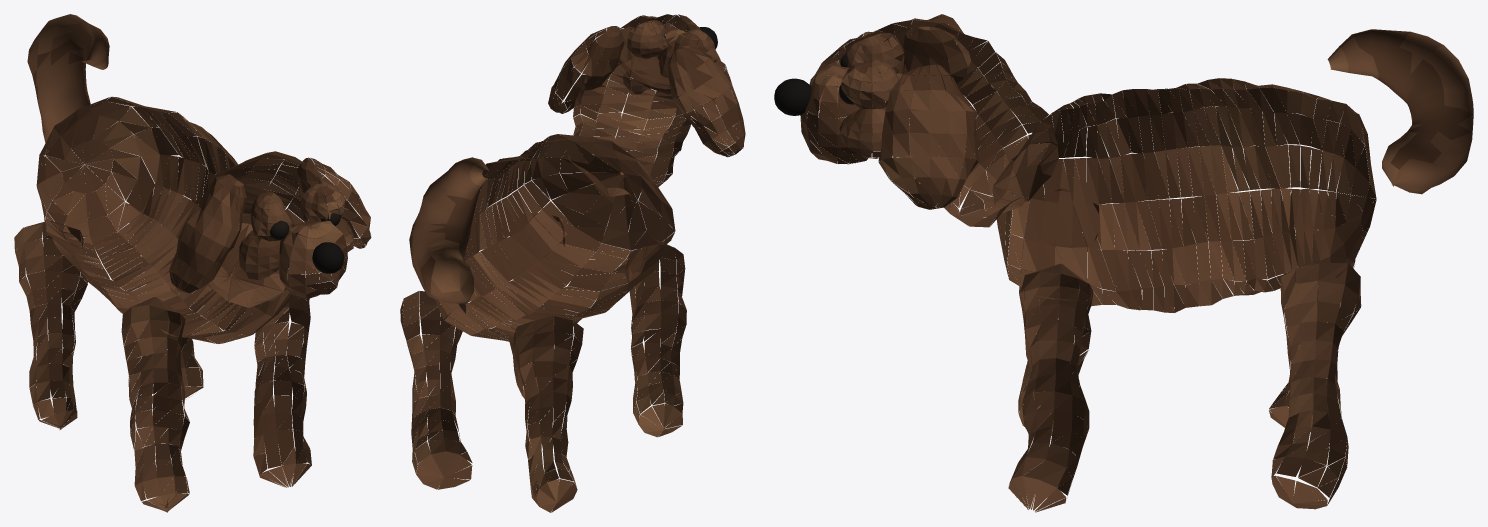
File: charley.glb
The picture shows the model from 3 angles, left to right: view 1: azimuth 30°, elevation 25°; view 2: azimuth 150°, elevation 25°; view 3: azimuth 270°, elevation 25°; orthographic projection. The views are drawn at different scales.
Parts seen in each view (by area): view 1: coat, coatCurlDk, head, headCurlDk, coatCurlLt, tailGeo, headCurlLt, tailGeoLt, nose, tailGeoDk, eyes; view 2: coat, coatCurlDk, head, headCurlDk, coatCurlLt, tailGeo, headCurlLt, tailGeoLt, tailGeoDk; view 3: coat, coatCurlDk, head, headCurlDk, coatCurlLt, tailGeoDk, tailGeo, headCurlLt, tailGeoLt, nose.
Boxes of the visible parts, left/top/right/bottom form: coat: left=15, top=96, right=311, bottom=511; coatCurlDk: left=26, top=105, right=310, bottom=474; head: left=169, top=151, right=370, bottom=307; headCurlDk: left=169, top=153, right=370, bottom=293; coatCurlLt: left=14, top=107, right=239, bottom=512; tailGeo: left=27, top=14, right=109, bottom=147; headCurlLt: left=195, top=190, right=371, bottom=288; tailGeoLt: left=29, top=17, right=108, bottom=69; nose: left=312, top=242, right=344, bottom=273; tailGeoDk: left=32, top=22, right=98, bottom=105; eyes: left=267, top=206, right=340, bottom=239; coat: left=402, top=134, right=686, bottom=512; coatCurlDk: left=400, top=139, right=683, bottom=501; head: left=549, top=14, right=738, bottom=196; headCurlDk: left=548, top=14, right=745, bottom=196; coatCurlLt: left=402, top=134, right=683, bottom=501; tailGeo: left=409, top=157, right=488, bottom=303; headCurlLt: left=568, top=15, right=697, bottom=168; tailGeoLt: left=428, top=163, right=489, bottom=292; tailGeoDk: left=409, top=183, right=483, bottom=292; coat: left=992, top=78, right=1375, bottom=512; coatCurlDk: left=994, top=78, right=1376, bottom=495; head: left=800, top=18, right=1058, bottom=227; headCurlDk: left=807, top=14, right=1057, bottom=226; coatCurlLt: left=1010, top=88, right=1357, bottom=465; tailGeoDk: left=1352, top=29, right=1473, bottom=169; tailGeo: left=1339, top=32, right=1473, bottom=194; headCurlLt: left=808, top=52, right=1047, bottom=202; tailGeoLt: left=1327, top=45, right=1468, bottom=188; nose: left=774, top=78, right=811, bottom=115.
Bounding box in the file's own units: 0.5603 × 1.06 × 1.48.
